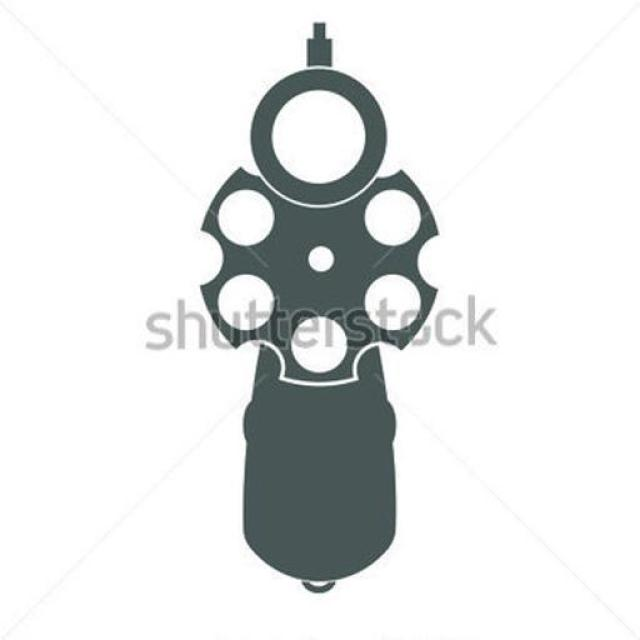pistol: (195, 12, 437, 592)
